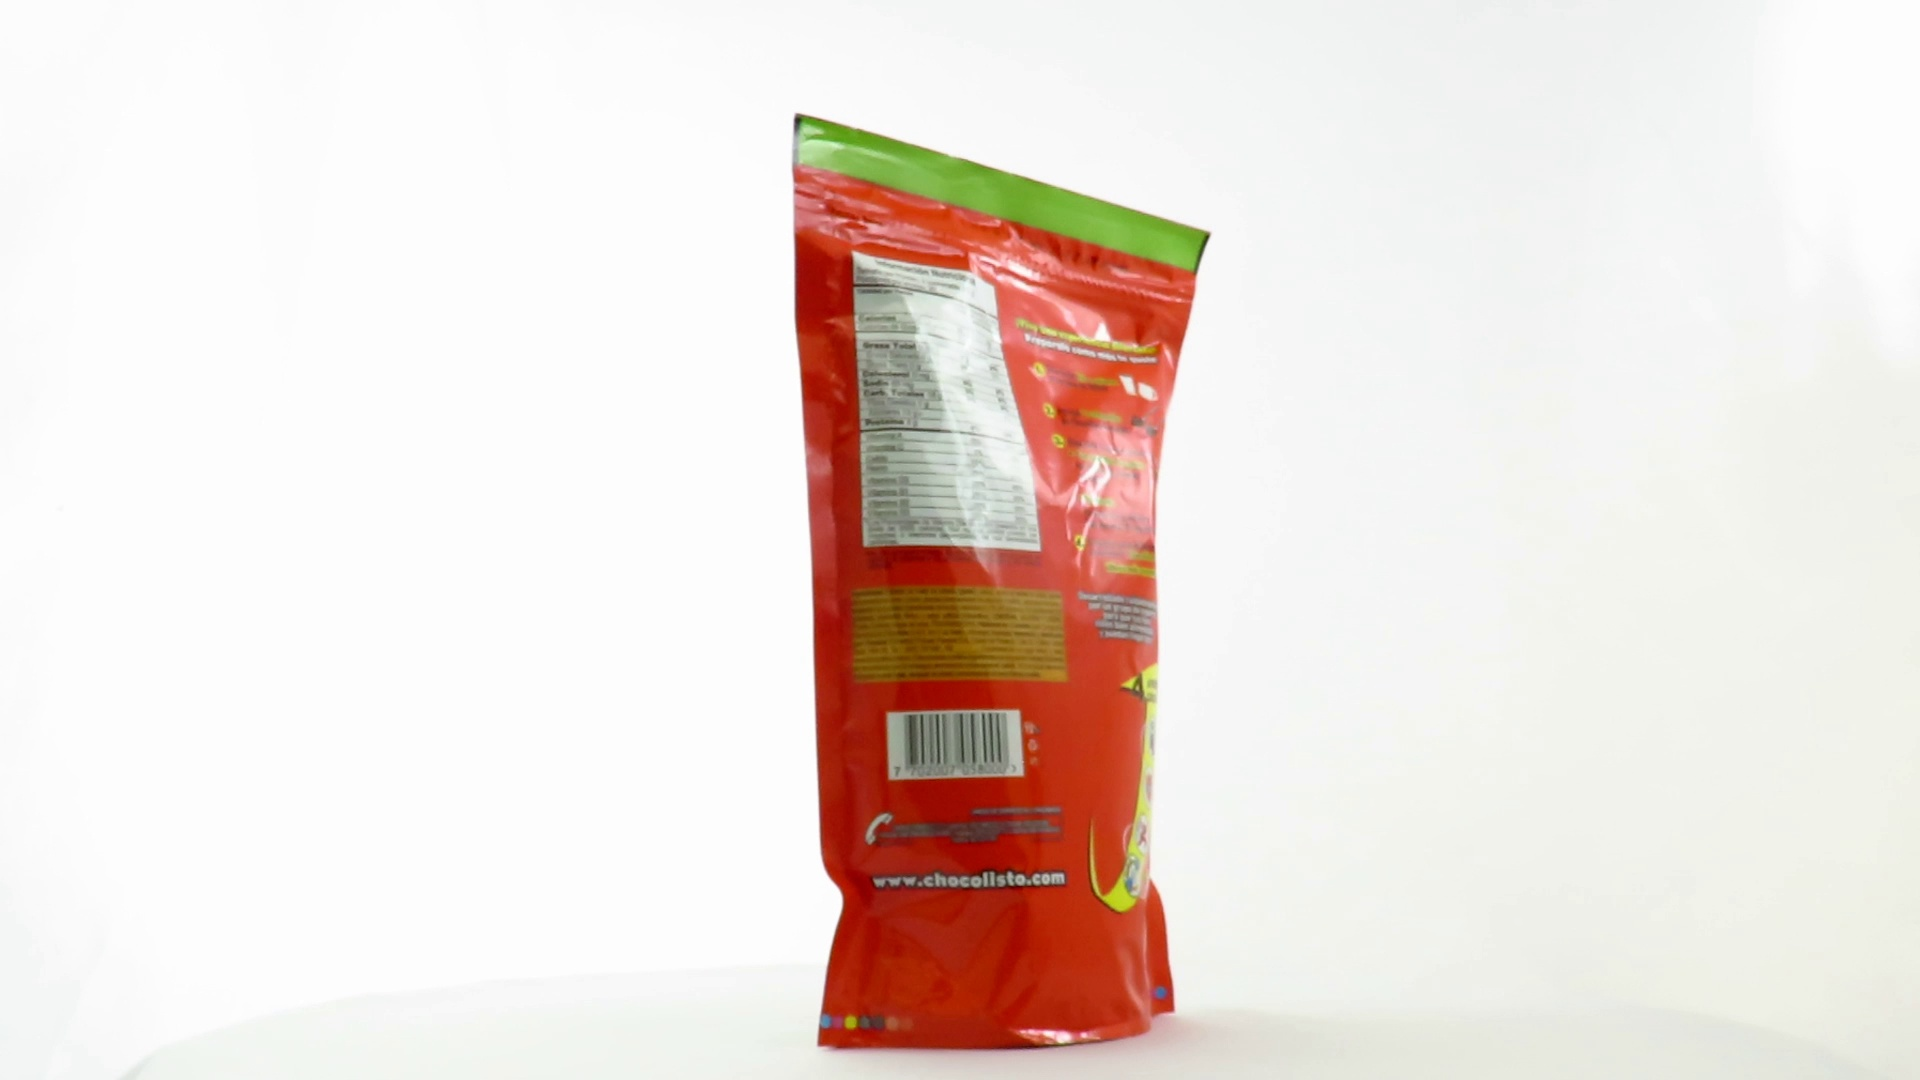COL0170102DYP50000: (787, 108, 1217, 1056)
